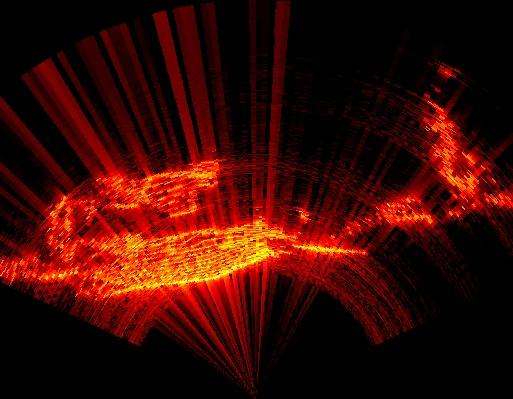shipwreck: (5, 104, 501, 296)
